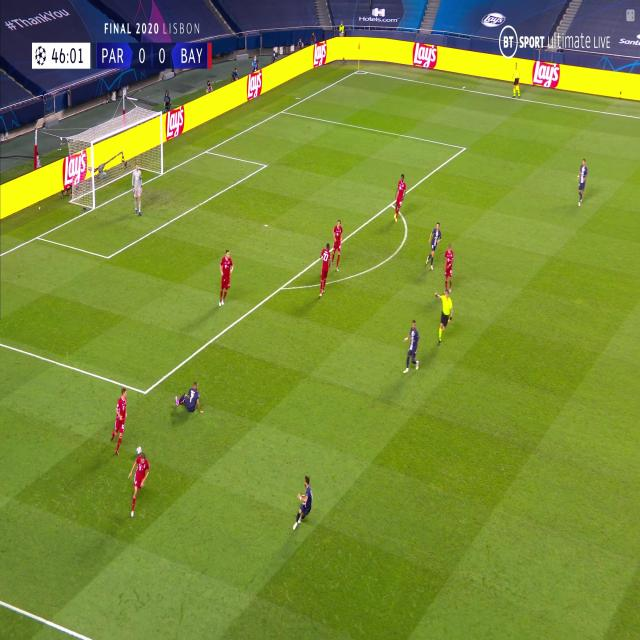ball: (136, 446, 142, 456)
player: (128, 444, 150, 518), (109, 386, 130, 457), (292, 474, 314, 530), (400, 318, 421, 375), (172, 380, 202, 417), (435, 287, 453, 347), (390, 173, 408, 224), (423, 221, 442, 269), (218, 248, 233, 308), (330, 218, 344, 274), (317, 242, 331, 298), (442, 243, 456, 294), (132, 163, 143, 218), (576, 158, 588, 208), (512, 62, 521, 99)
